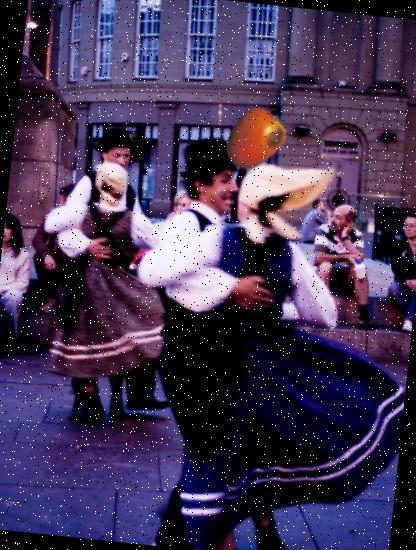Kaki: (215, 100, 291, 176)
